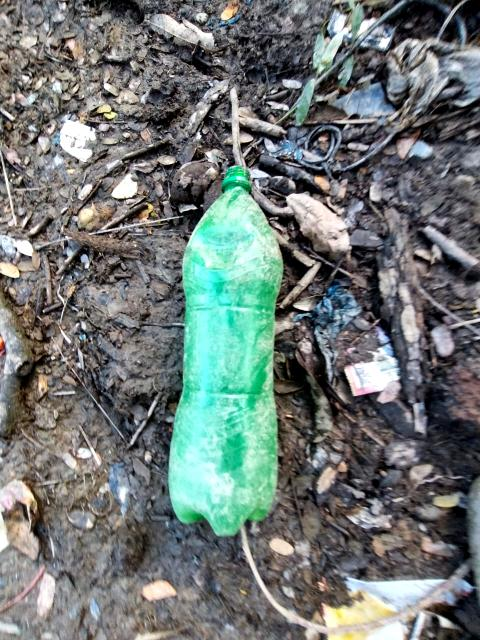bottle: (166, 176, 292, 538)
